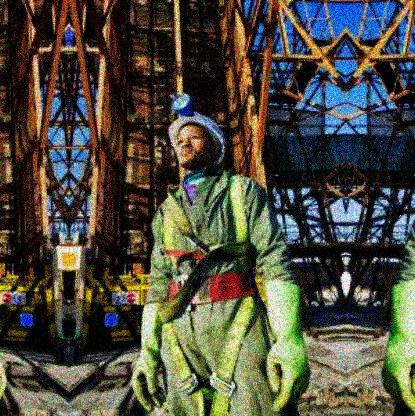helmet: (160, 93, 228, 173)
